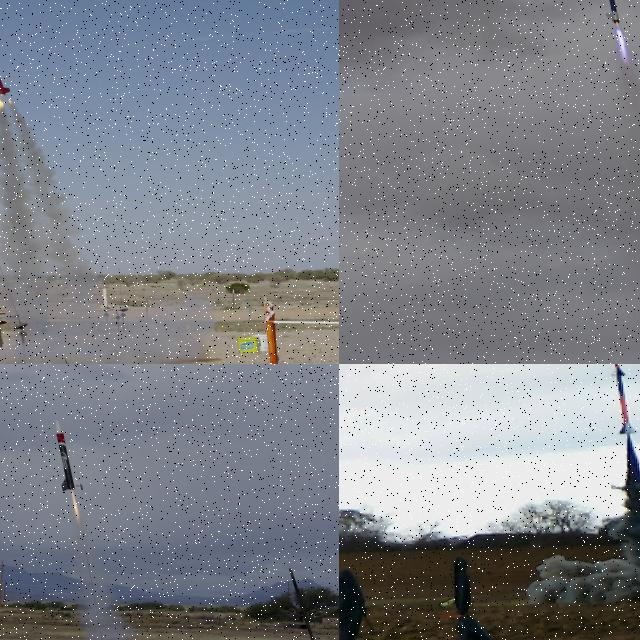Rocket: (54, 420, 85, 492), (607, 364, 638, 434), (592, 0, 629, 24), (0, 19, 11, 96), (100, 288, 112, 309)
